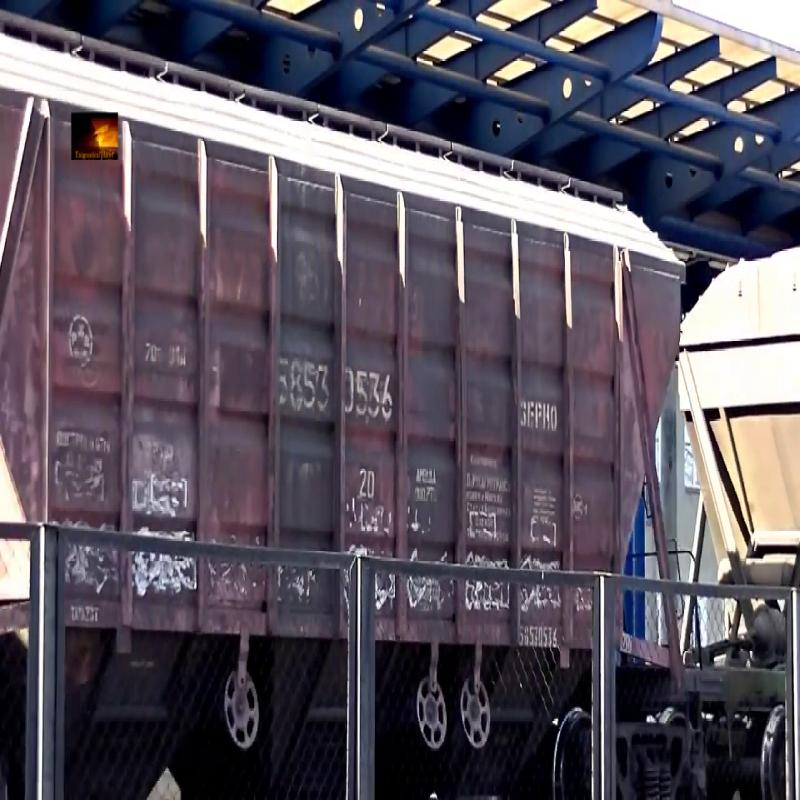train: (3, 22, 697, 771), (736, 21, 800, 769)
